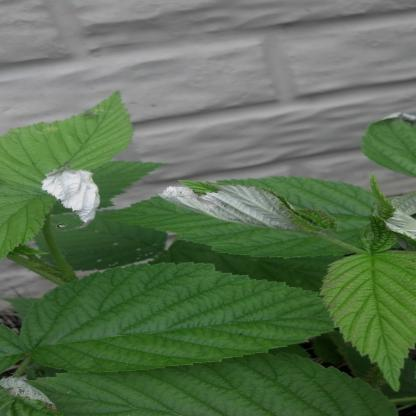Raspberry leaf: (23, 260, 343, 372), (106, 173, 403, 263), (319, 254, 416, 392)
